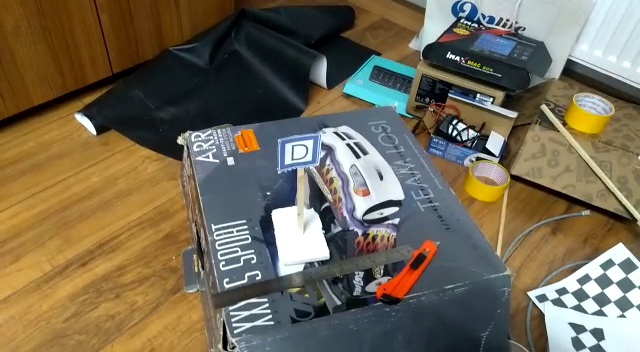durak: (273, 131, 322, 176)
